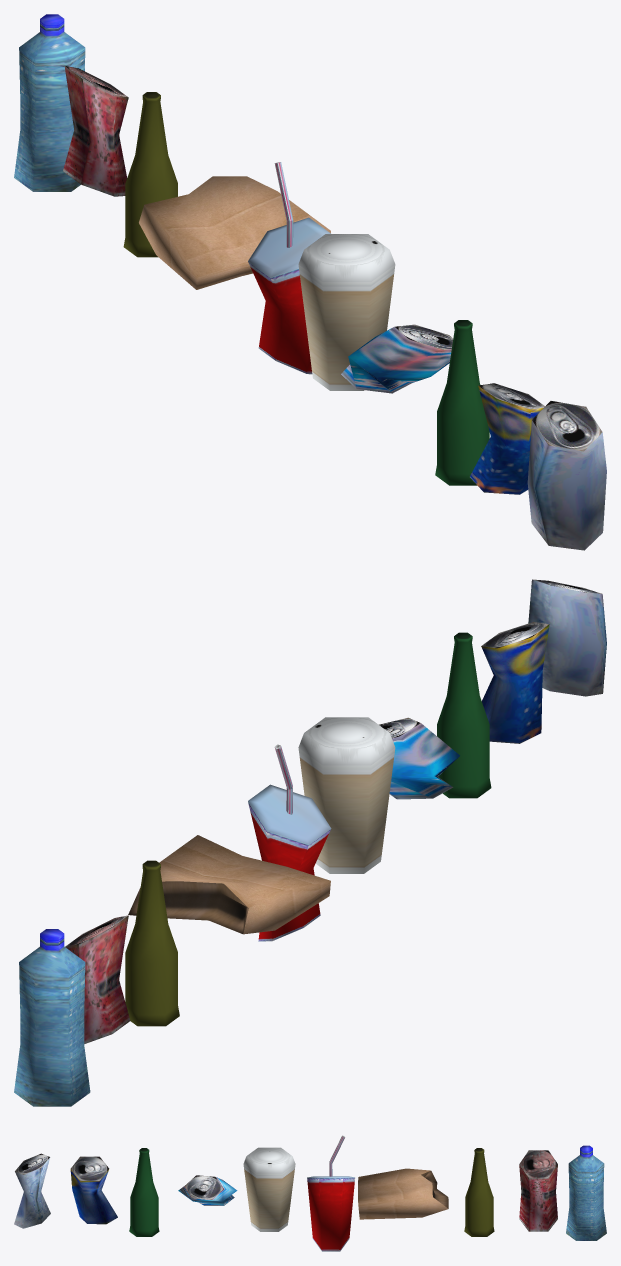
File: Trash.fbx
The picture shows the model from 3 angles, top to bottom: view 1: azimuth 30°, elevation 25°; view 2: azimuth 150°, elevation 25°; view 3: azimuth 270°, elevation 25°; orthographic projection. The views are drawn at different scales.
Parts seen in each view (by area): view 1: Paper_Bag_3, Coffee_Cup_WithLid, Can_7_Crushed, WaterBottle, Soda_Cup_Crushed, Can_1_Crushed, GlassBottle_2, Can_3_Crushed, Can_5_Crushed, GlassBottle_3; view 2: Coffee_Cup_WithLid, Paper_Bag_3, WaterBottle, Can_7_Crushed, GlassBottle_3, Can_3_Crushed, Soda_Cup_Crushed, GlassBottle_2, Can_1_Crushed, Can_5_Crushed; view 3: Paper_Bag_3, Coffee_Cup_WithLid, Soda_Cup_Crushed, WaterBottle, Can_1_Crushed, Can_3_Crushed, GlassBottle_3, GlassBottle_2, Can_7_Crushed, Can_5_Crushed.
Part boxes in pixels (<box>): Paper_Bag_3: <box>139,176,330,289</box>; Coffee_Cup_WithLid: <box>298,234,395,390</box>; Can_7_Crushed: <box>527,401,606,550</box>; WaterBottle: <box>14,14,85,191</box>; Soda_Cup_Crushed: <box>248,162,330,374</box>; Can_1_Crushed: <box>63,66,128,196</box>; GlassBottle_2: <box>435,320,489,485</box>; Can_3_Crushed: <box>470,383,544,494</box>; Can_5_Crushed: <box>341,324,453,393</box>; GlassBottle_3: <box>123,92,177,257</box>; Coffee_Cup_WithLid: <box>298,717,395,873</box>; Paper_Bag_3: <box>128,835,330,934</box>; WaterBottle: <box>14,929,90,1106</box>; Can_7_Crushed: <box>528,579,606,696</box>; GlassBottle_3: <box>125,860,179,1026</box>; Can_3_Crushed: <box>481,622,549,743</box>; Soda_Cup_Crushed: <box>248,744,331,941</box>; GlassBottle_2: <box>437,632,491,798</box>; Can_1_Crushed: <box>65,915,130,1043</box>; Can_5_Crushed: <box>379,717,459,799</box>; Paper_Bag_3: <box>358,1168,448,1219</box>; Coffee_Cup_WithLid: <box>243,1147,295,1231</box>; Soda_Cup_Crushed: <box>307,1135,354,1251</box>; WaterBottle: <box>566,1145,606,1240</box>; Can_1_Crushed: <box>519,1150,557,1231</box>; Can_3_Crushed: <box>70,1156,117,1224</box>; GlassBottle_3: <box>464,1148,494,1236</box>; GlassBottle_2: <box>129,1148,159,1236</box>; Can_7_Crushed: <box>14,1153,50,1228</box>; Can_5_Crushed: <box>178,1175,237,1205</box>.
Size of the model in its own units: 48.04 by 70.27 by 345.
